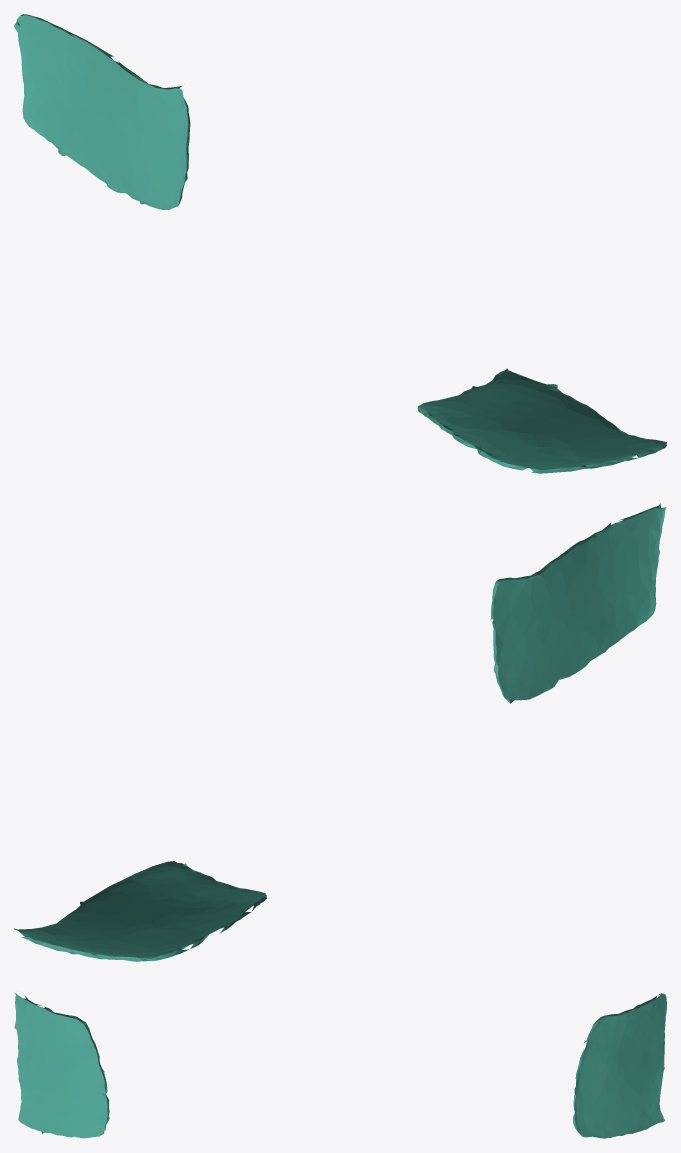
The picture shows the model from 3 angles, top to bottom: view 1: azimuth 30°, elevation 25°; view 2: azimuth 150°, elevation 25°; view 3: azimuth 270°, elevation 25°; orthographic projection. The views are drawn at different scales.
Parts seen in each view (by area): view 1: 1062.obj; view 2: 1062.obj; view 3: 1062.obj.
Boxes of the visible parts, x1,y1,x2,y2 form: 1062.obj: (14, 14, 666, 473); 1062.obj: (14, 503, 666, 961); 1062.obj: (14, 993, 666, 1138).
Size of the model in its own units: 1659 by 1335 by 6794.
